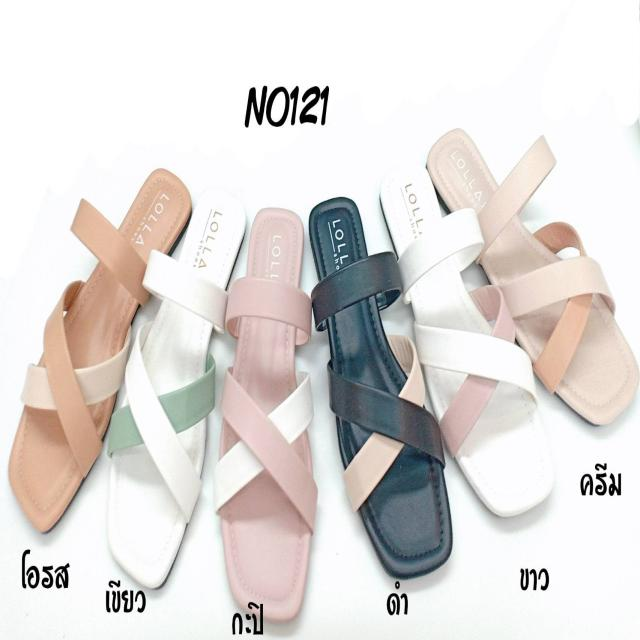black: (307, 194, 454, 578)
cream: (431, 134, 636, 428)
green: (106, 194, 241, 582)
kapi: (221, 205, 317, 618)
orot: (8, 166, 189, 531)
white: (380, 167, 552, 529)
